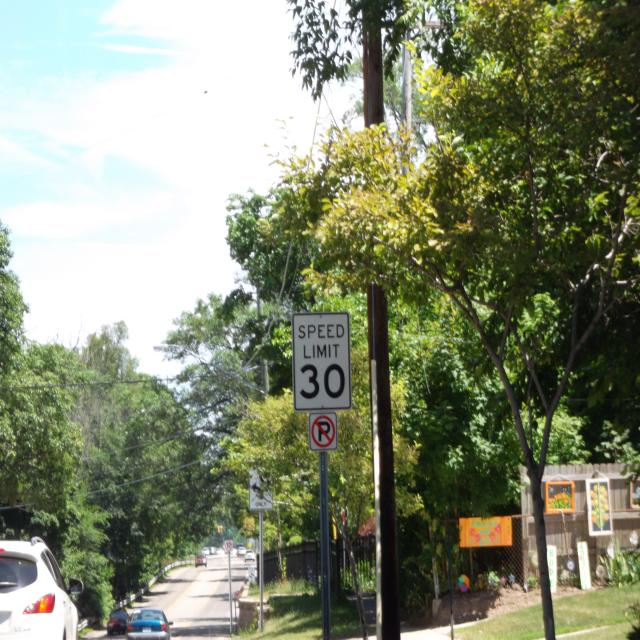regulatory: (294, 310, 352, 409), (243, 461, 282, 513), (308, 409, 339, 452)
